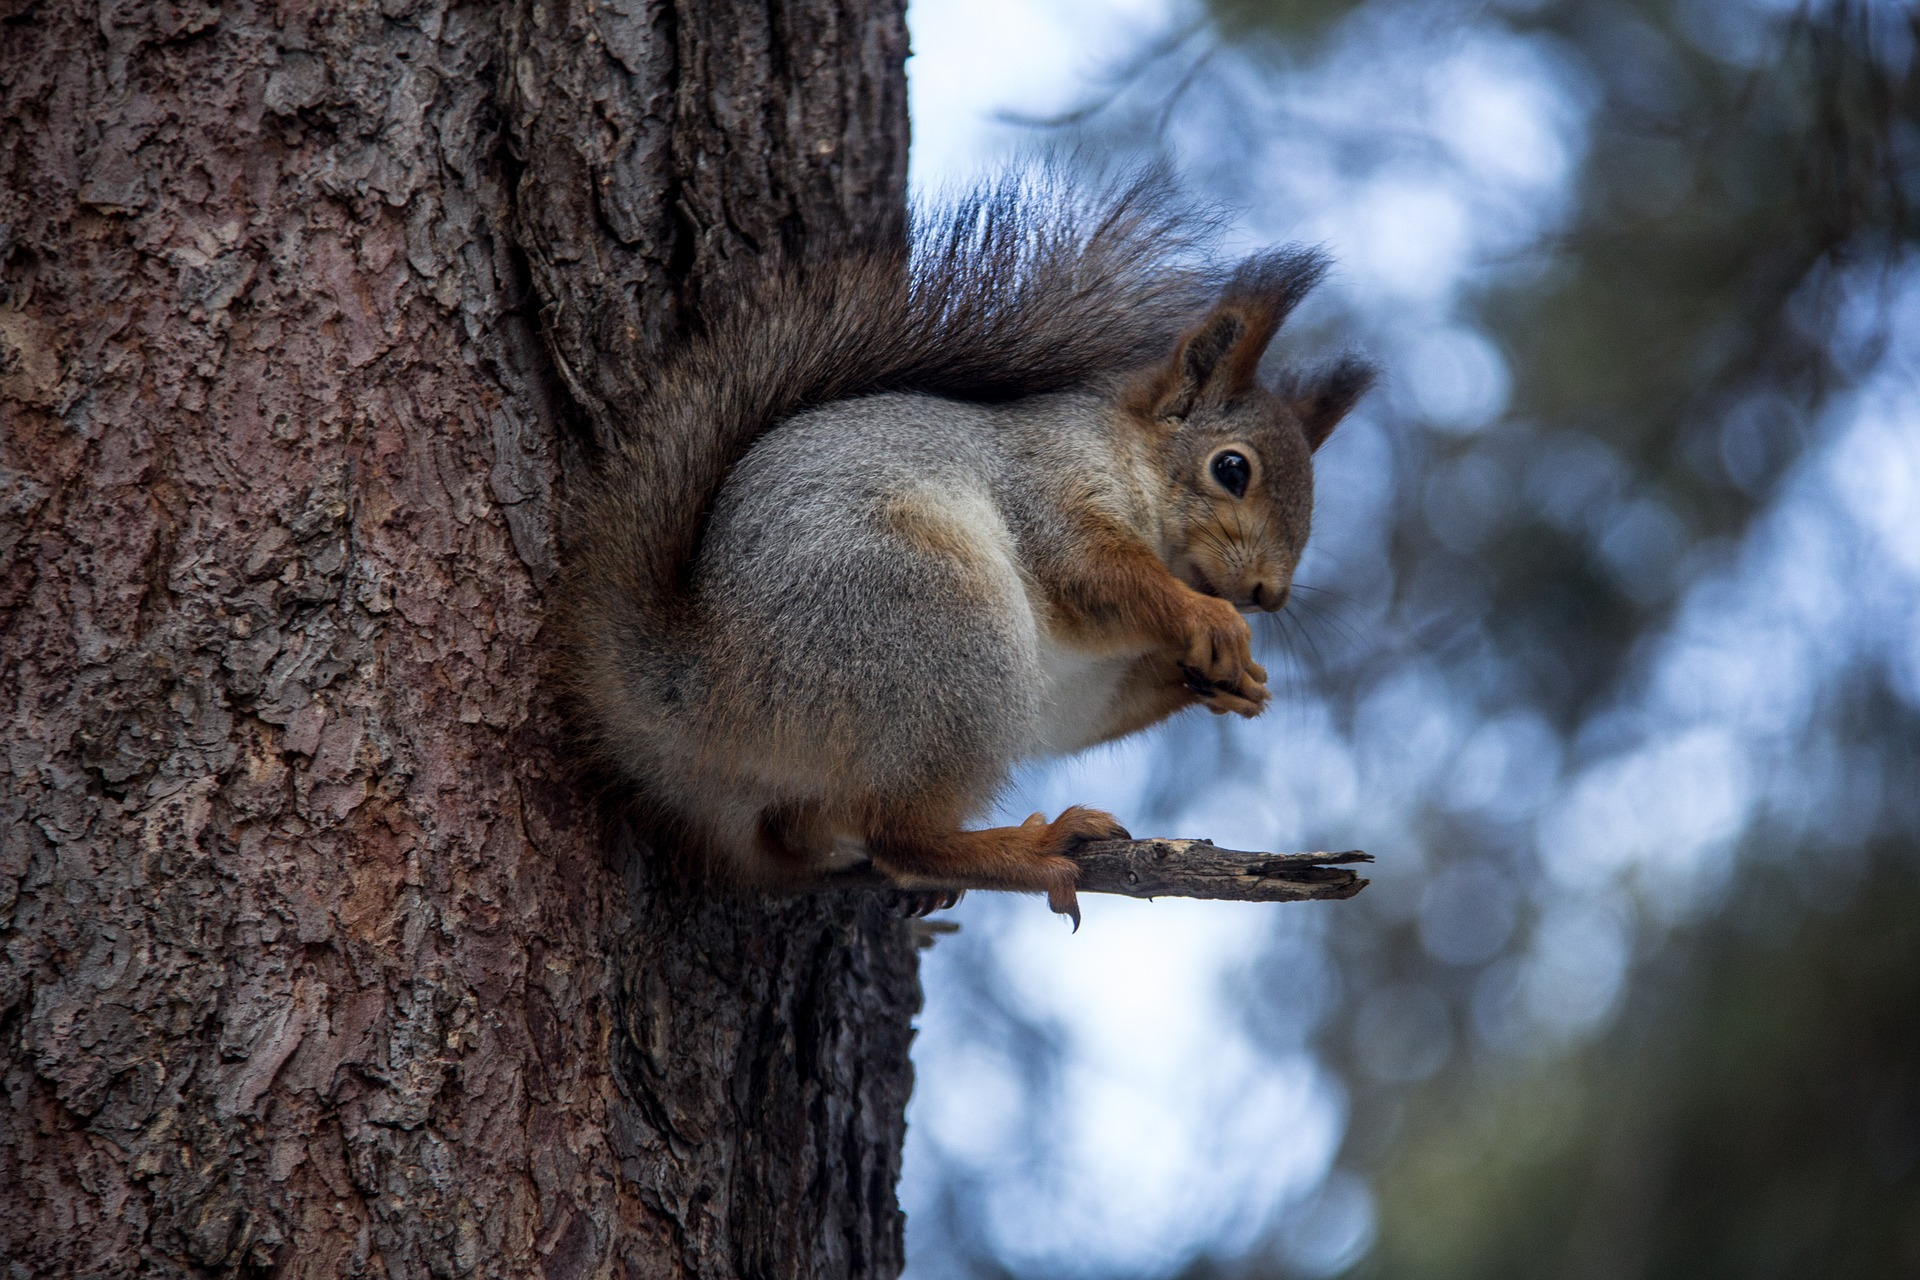squirrel: (583, 157, 1374, 944)
